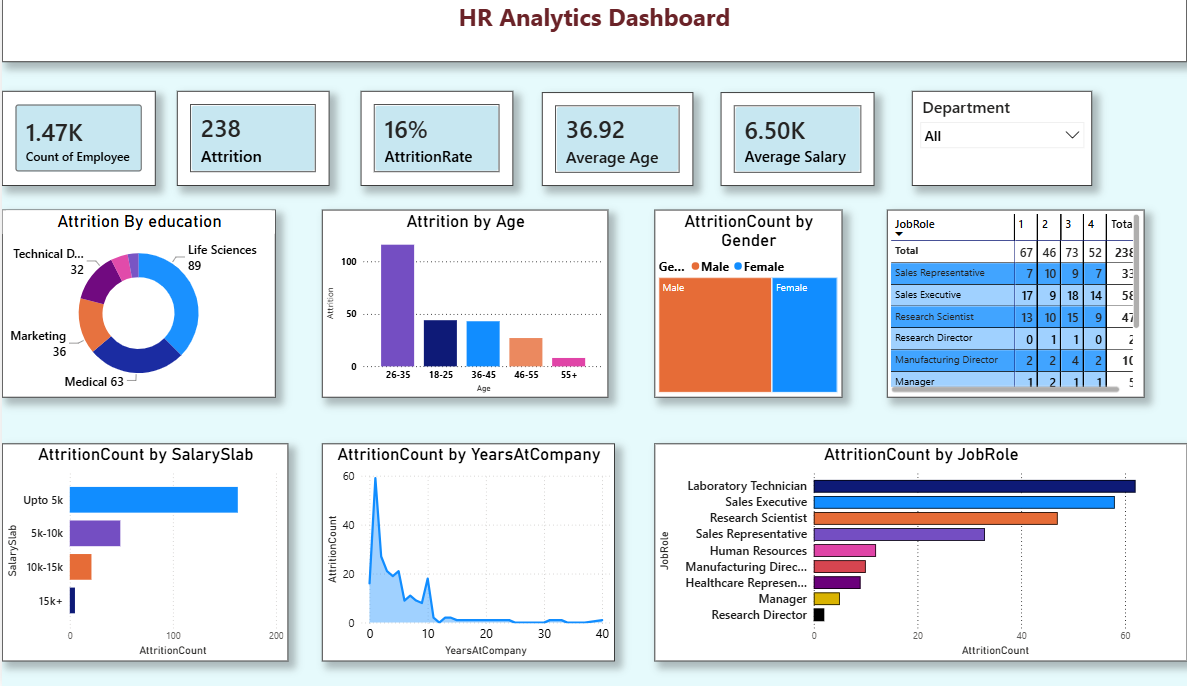

What the dashboard file says about the page in this screenshot:
{"tool":"powerbi","page":{"name":"Page 1","canvas":[1580,920],"ordinal":0},"visuals":[{"type":"textbox","box":[0,0,1580,88.3],"z":0},{"type":"cardVisual","fields":{"Data":["Count(HR_Analytics.EmpID)"]},"box":[0,126.7,205,126.7],"z":1000},{"type":"cardVisual","fields":{"Data":["Sum(HR_Analytics.AttritionCount)"]},"box":[233.3,126.7,203.3,126.7],"z":2000},{"type":"cardVisual","fields":{"Data":["HR_Analytics.AttritionRate"]},"box":[478.3,126.7,203.3,126.7],"z":3000},{"type":"cardVisual","fields":{"Data":["Avg(HR_Analytics.Age)"]},"box":[720,128.3,201.7,125],"z":4000},{"type":"cardVisual","fields":{"Data":["Avg(HR_Analytics.MonthlyIncome)"]},"box":[958.3,128.3,205,125],"z":5000},{"type":"donutChart","title":"Attrition By education","fields":{"Category":["HR_Analytics.EducationField","HR_Analytics.YearsAtCompany"],"Y":["Sum(HR_Analytics.AttritionCount)"]},"box":[0,285,365,250],"z":6000},{"type":"columnChart","fields":{"Category":["HR_Analytics.AgeGroup"],"Y":["Sum(HR_Analytics.AttritionCount)"]},"box":[426.7,285,381.7,250],"z":7000},{"type":"pivotTable","fields":{"Rows":["HR_Analytics.JobRole"],"Columns":["HR_Analytics.JobSatisfaction"],"Values":["Sum(HR_Analytics.AttritionCount)"]},"box":[1180,285,343.3,250],"z":8000},{"type":"barChart","fields":{"Y":["Sum(HR_Analytics.AttritionCount)"],"Category":["HR_Analytics.SalarySlab"]},"box":[0,596.7,381.7,290],"z":9000},{"type":"areaChart","fields":{"Y":["Sum(HR_Analytics.AttritionCount)"],"Category":["HR_Analytics.YearsAtCompany"]},"box":[426.7,596.7,390,290],"z":10000},{"type":"barChart","title":"AttritionCount by JobRole","fields":{"Y":["Sum(HR_Analytics.AttritionCount)"],"Category":["HR_Analytics.JobRole"]},"box":[870,596.7,710,290],"z":11000},{"type":"treemap","fields":{"Group":["HR_Analytics.Gender"],"Values":["Sum(HR_Analytics.AttritionCount)"]},"box":[870,285,250,250],"z":12000},{"type":"slicer","fields":{"Values":["HR_Analytics.Department"]},"box":[1213.3,126.7,240,126.7],"z":13000}]}

Visuals, with their boxes in screenshot pixels (x1, y1, x2, y2), scaled from the page's 1580x920 canvas onto the 1187x686 screenshot:
textbox: locate(0, 0, 1186, 66)
cardVisual - Count(HR_Analytics.EmpID): locate(0, 94, 154, 189)
cardVisual - Sum(HR_Analytics.AttritionCount): locate(175, 94, 328, 189)
cardVisual - HR_Analytics.AttritionRate: locate(359, 94, 512, 189)
cardVisual - Avg(HR_Analytics.Age): locate(541, 96, 692, 189)
cardVisual - Avg(HR_Analytics.MonthlyIncome): locate(720, 96, 874, 189)
"Attrition By education" donutChart: locate(0, 213, 274, 399)
columnChart - HR_Analytics.AgeGroup x Sum(HR_Analytics.AttritionCount): locate(321, 213, 607, 399)
pivotTable - HR_Analytics.JobRole x HR_Analytics.JobSatisfaction: locate(886, 213, 1144, 399)
barChart - Sum(HR_Analytics.AttritionCount) x HR_Analytics.SalarySlab: locate(0, 445, 287, 661)
areaChart - Sum(HR_Analytics.AttritionCount) x HR_Analytics.YearsAtCompany: locate(321, 445, 614, 661)
"AttritionCount by JobRole" barChart: locate(654, 445, 1186, 661)
treemap - HR_Analytics.Gender x Sum(HR_Analytics.AttritionCount): locate(654, 213, 841, 399)
slicer - HR_Analytics.Department: locate(912, 94, 1092, 189)
